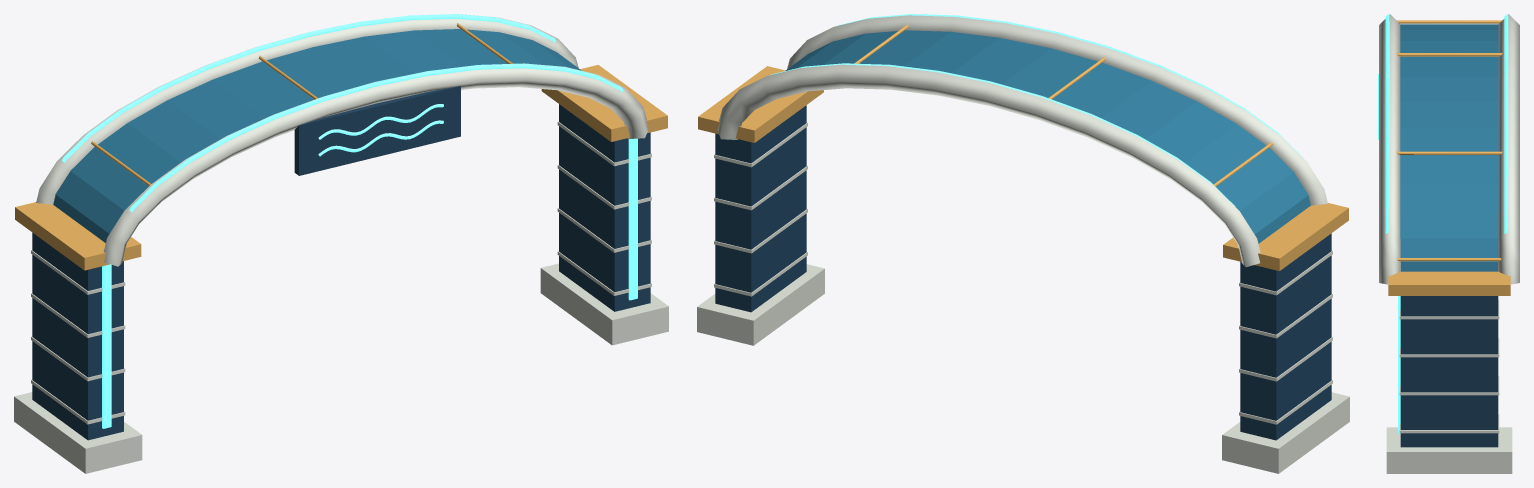
File: wave_pavilion_lod1.glb
3 views of the same model, side by side, from view 1: azimuth 30°, elevation 25°; view 2: azimuth 150°, elevation 25°; view 3: azimuth 270°, elevation 25° (orthographic). The views are drawn at different scales.
Parts seen in each view (by area): view 1: navy_ceramic, ivory_stone, blue_canopy, cyan_light, warm_brass; view 2: ivory_stone, navy_ceramic, blue_canopy, warm_brass, cyan_light; view 3: blue_canopy, ivory_stone, navy_ceramic, warm_brass, cyan_light.
Boxes of the visible parts, <box> form: navy_ceramic: <box>32,86,650,440</box>; ivory_stone: <box>14,14,668,473</box>; blue_canopy: <box>53,29,581,242</box>; cyan_light: <box>61,14,637,428</box>; warm_brass: <box>15,23,667,270</box>; ivory_stone: <box>697,15,1349,473</box>; navy_ceramic: <box>715,105,1331,440</box>; blue_canopy: <box>785,30,1310,243</box>; warm_brass: <box>698,24,1348,270</box>; cyan_light: <box>770,14,1302,206</box>; blue_canopy: <box>1400,24,1498,271</box>; ivory_stone: <box>1379,14,1519,473</box>; navy_ceramic: <box>1400,296,1498,447</box>; warm_brass: <box>1388,20,1510,295</box>; cyan_light: <box>1378,14,1508,433</box>.
Bounding box in the file's own units: 16.95 × 8.89 × 4.07.
